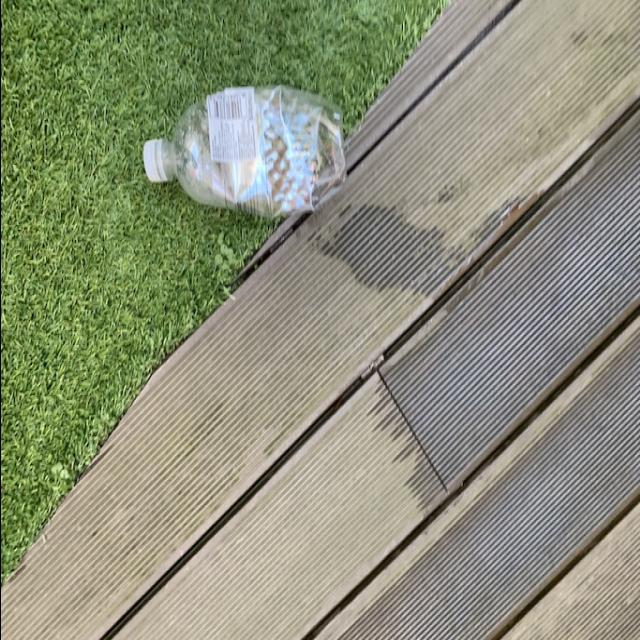PET: (140, 88, 350, 218)
